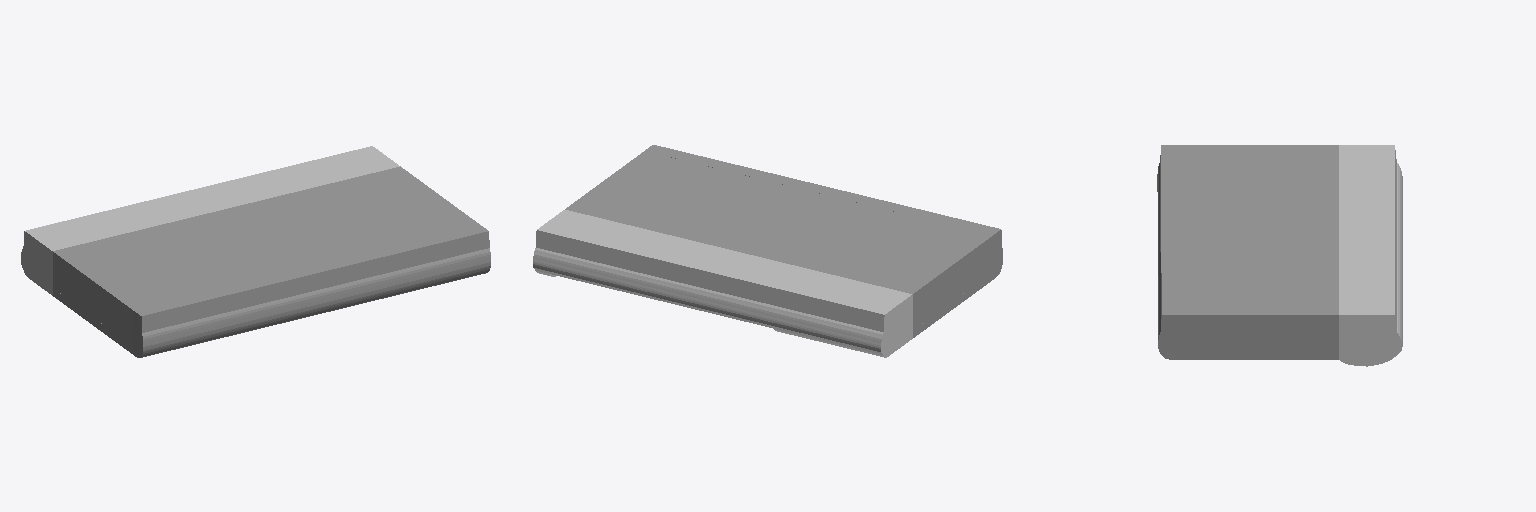
Rendered from ARCb.obj.
The picture shows the model from 3 angles: view 1: azimuth 30°, elevation 25°; view 2: azimuth 150°, elevation 25°; view 3: azimuth 270°, elevation 25°; orthographic projection.
Size of the model in its own units: 6.02 by 0.8508 by 3.67.